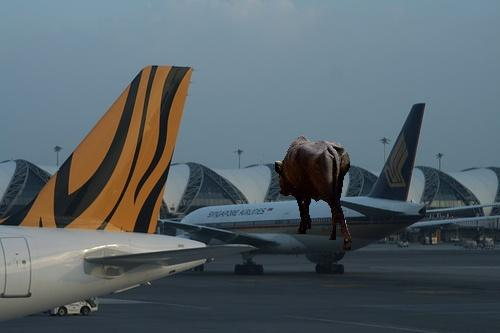tampered: (276, 136, 351, 250)
